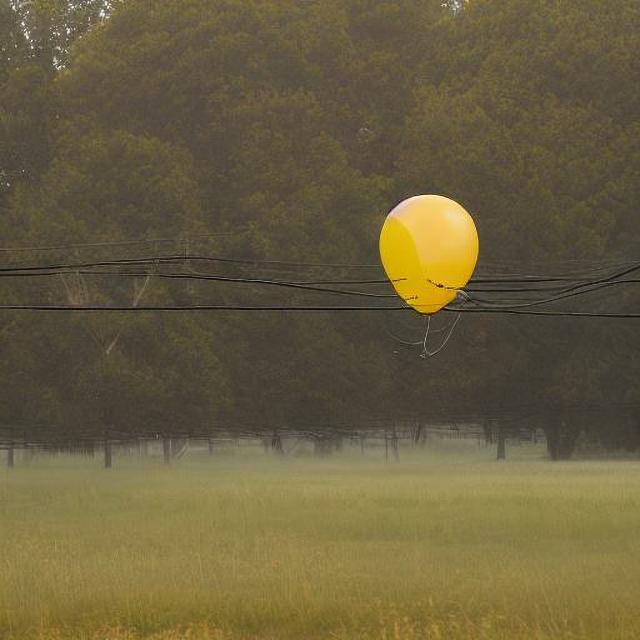balloon: (374, 192, 483, 316)
